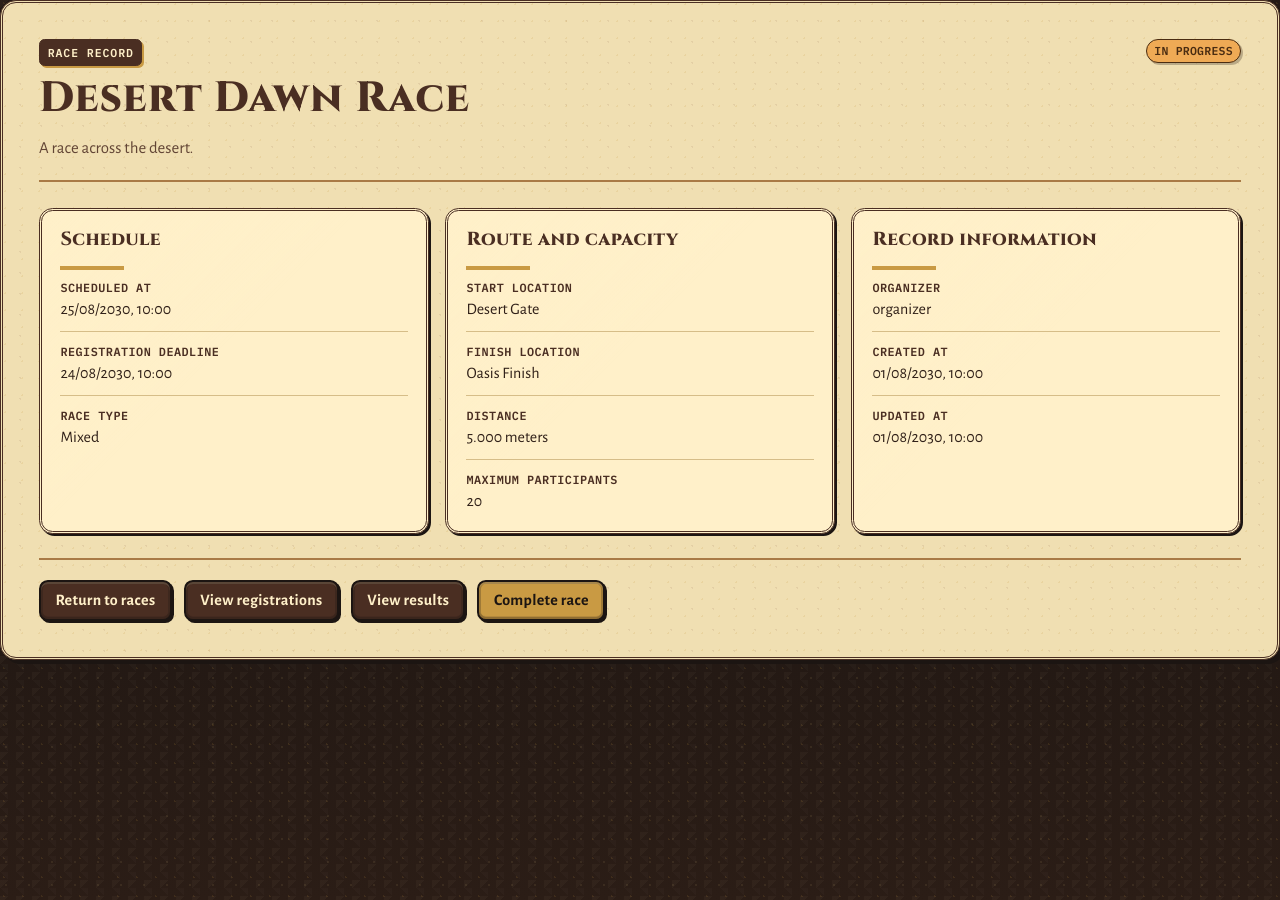
Test: RaceDetailPage › keeps the dialog open and shows conflict errors
Click the button "Complete race" at (541, 600), box [478,580,605,621]
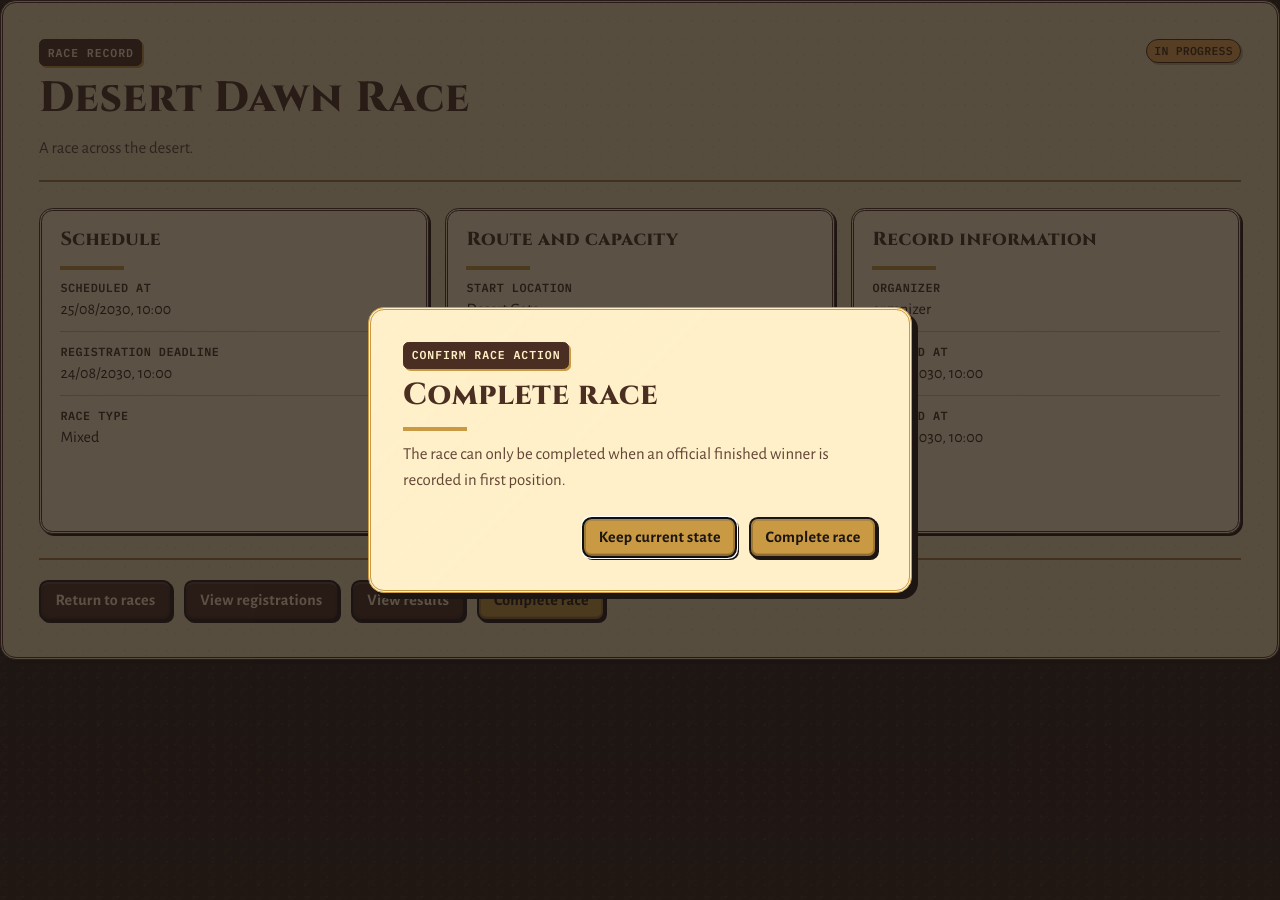
Click the button "Complete race" at (813, 538), box [749,517,877,558]
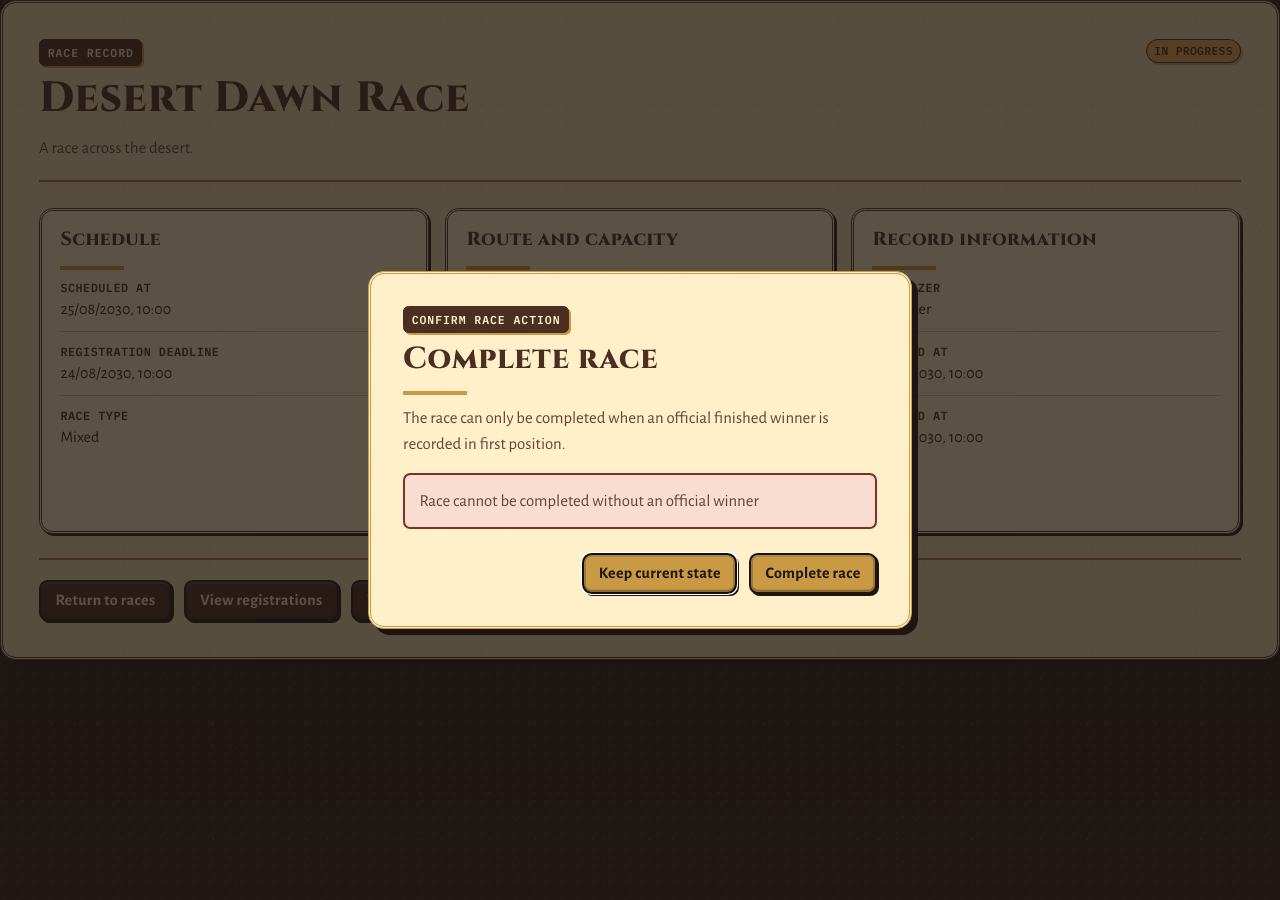
Check: the dialog is shown, box [368,271,912,629]
Check: the text "Race cannot be completed without an official winner" is shown, box [419,493,759,509]
